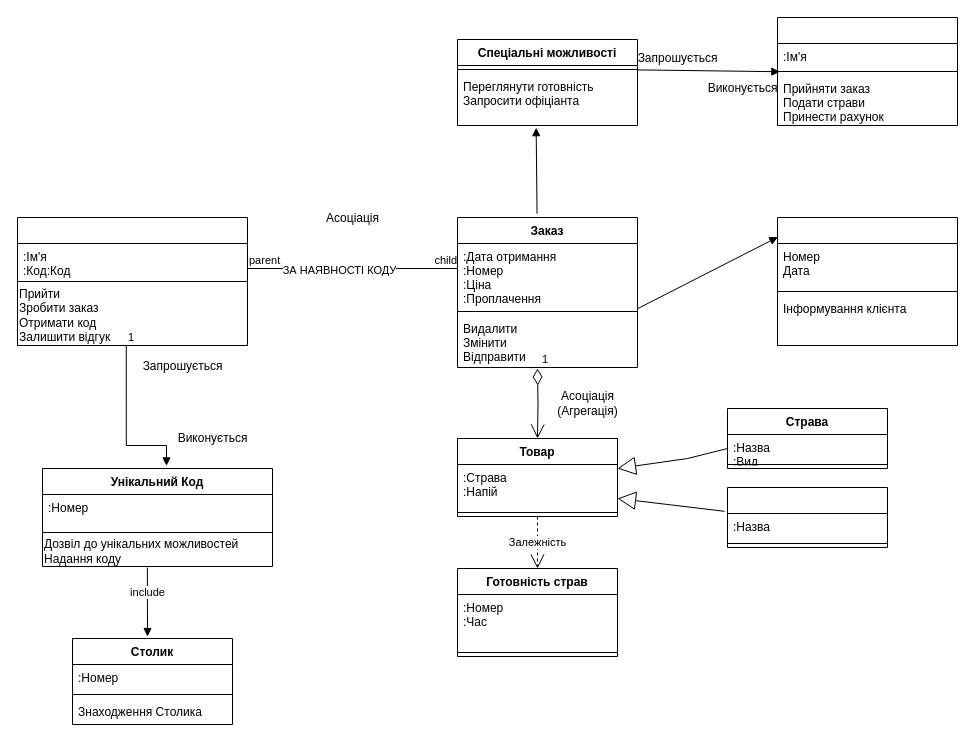
This 975x745 diagram has some shape labels left out. The shapes that lost their labels are listed below. From the top down, each one's box as (x1, y1, x2, y2) in pixels, then its label:
(776, 16, 958, 126): Офіціант
(16, 216, 248, 346): Клієнт
(776, 216, 958, 346): Рахунок
(726, 486, 888, 548): Напій
